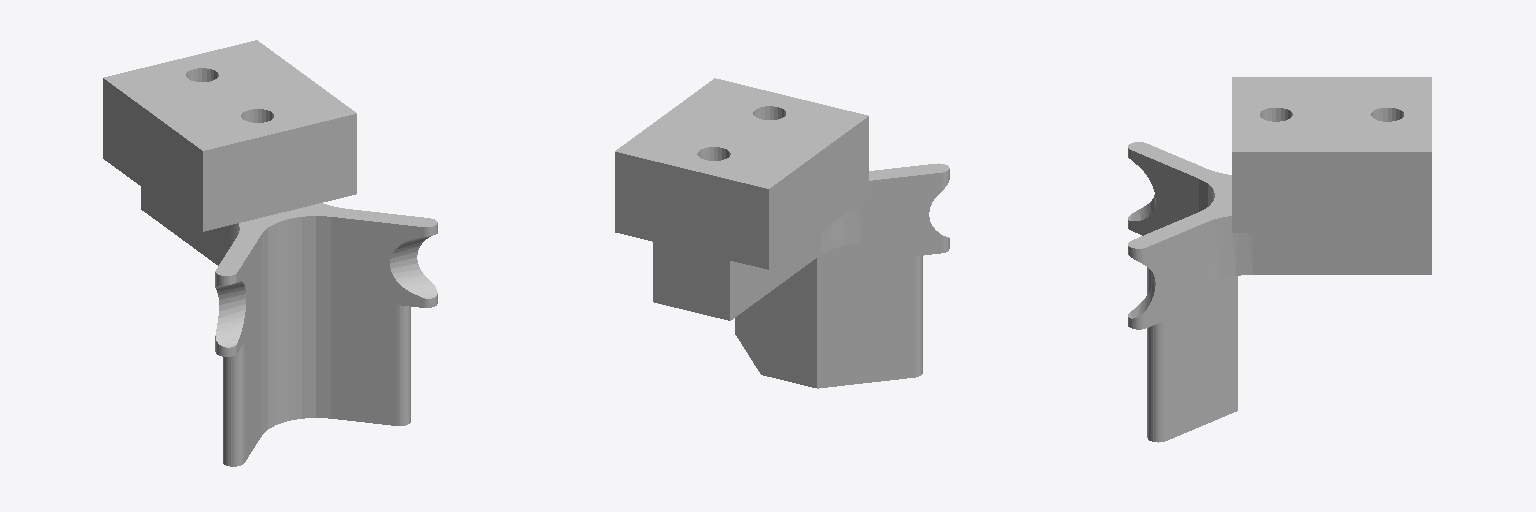
Rendered from g_fing_posx.obj.
The picture shows the model from 3 angles: view 1: azimuth 30°, elevation 25°; view 2: azimuth 150°, elevation 25°; view 3: azimuth 270°, elevation 25°; orthographic projection.
Bounding box in the file's own units: 0.0227 × 0.028 × 0.0273.